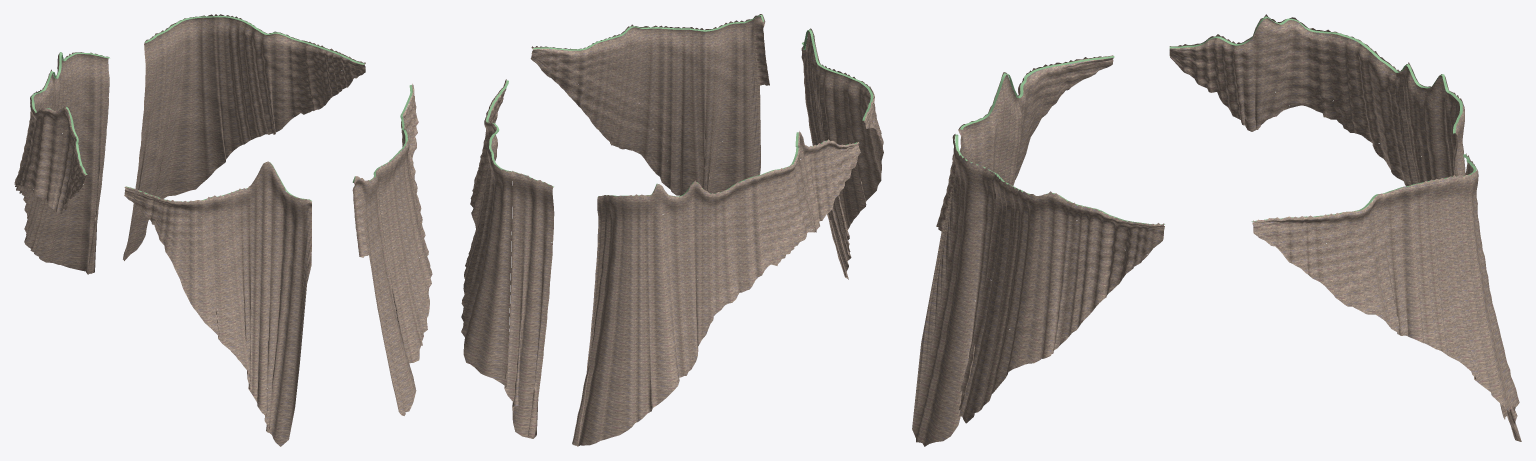
File: CliffWall_gate_massif.glb
3 views of the same model, side by side, from view 1: azimuth 30°, elevation 25°; view 2: azimuth 150°, elevation 25°; view 3: azimuth 270°, elevation 25° (orthographic). The views are drawn at different scales.
Parts seen in each view (by area): view 1: CliffWall_gate_massif-rock2, CliffWall_gate_massif-rock0, CliffWall_gate_massif-rock3, CliffWall_gate_massif-rock1, CliffWall_gate_massif-rock4, CliffWall_gate_massif-lip3, CliffWall_gate_massif-lip0; view 2: CliffWall_gate_massif-rock3, CliffWall_gate_massif-rock1, CliffWall_gate_massif-rock0, CliffWall_gate_massif-rock4, CliffWall_gate_massif-rock2, CliffWall_gate_massif-lip1; view 3: CliffWall_gate_massif-rock1, CliffWall_gate_massif-rock0, CliffWall_gate_massif-rock3, CliffWall_gate_massif-rock2, CliffWall_gate_massif-lip3, CliffWall_gate_massif-lip2.
Part boxes in pixels (<box>): CliffWall_gate_massif-rock2: <box>124,161,311,446</box>; CliffWall_gate_massif-rock0: <box>155,14,365,198</box>; CliffWall_gate_massif-rock3: <box>14,52,109,274</box>; CliffWall_gate_massif-rock1: <box>352,83,432,415</box>; CliffWall_gate_massif-rock4: <box>123,21,179,260</box>; CliffWall_gate_massif-lip3: <box>31,52,109,174</box>; CliffWall_gate_massif-lip0: <box>179,15,364,64</box>; CliffWall_gate_massif-rock3: <box>572,131,860,446</box>; CliffWall_gate_massif-rock1: <box>530,14,769,195</box>; CliffWall_gate_massif-rock0: <box>461,79,512,386</box>; CliffWall_gate_massif-rock4: <box>504,171,554,438</box>; CliffWall_gate_massif-rock2: <box>801,28,883,279</box>; CliffWall_gate_massif-lip1: <box>532,15,763,50</box>; CliffWall_gate_massif-rock1: <box>912,134,1164,446</box>; CliffWall_gate_massif-rock0: <box>1252,166,1519,411</box>; CliffWall_gate_massif-rock3: <box>1169,14,1506,419</box>; CliffWall_gate_massif-rock2: <box>958,55,1113,185</box>; CliffWall_gate_massif-lip3: <box>1169,16,1462,133</box>; CliffWall_gate_massif-lip2: <box>960,55,1114,129</box>.
Bounding box in the file's own units: 1382 × 1075 × 1798.
4 materials, 1 textured.
